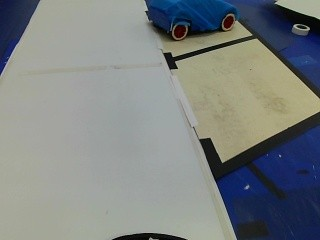car: (139, 0, 242, 40)
